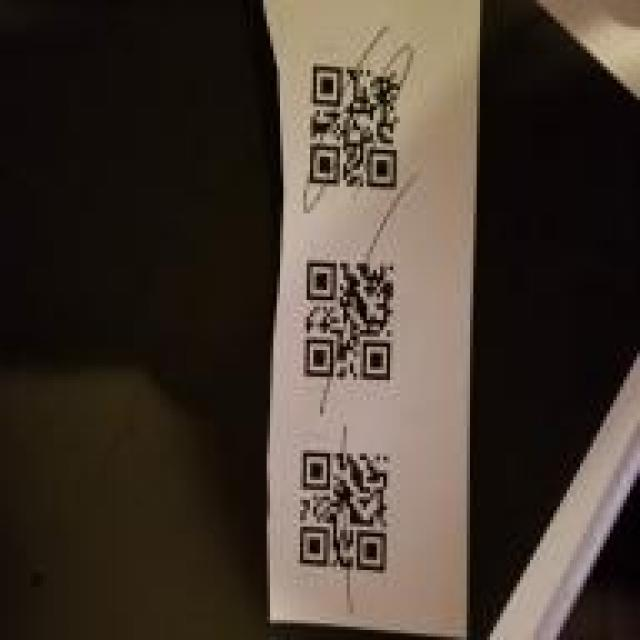qr_code: (310, 66, 401, 188), (304, 262, 395, 380), (299, 452, 389, 570)
